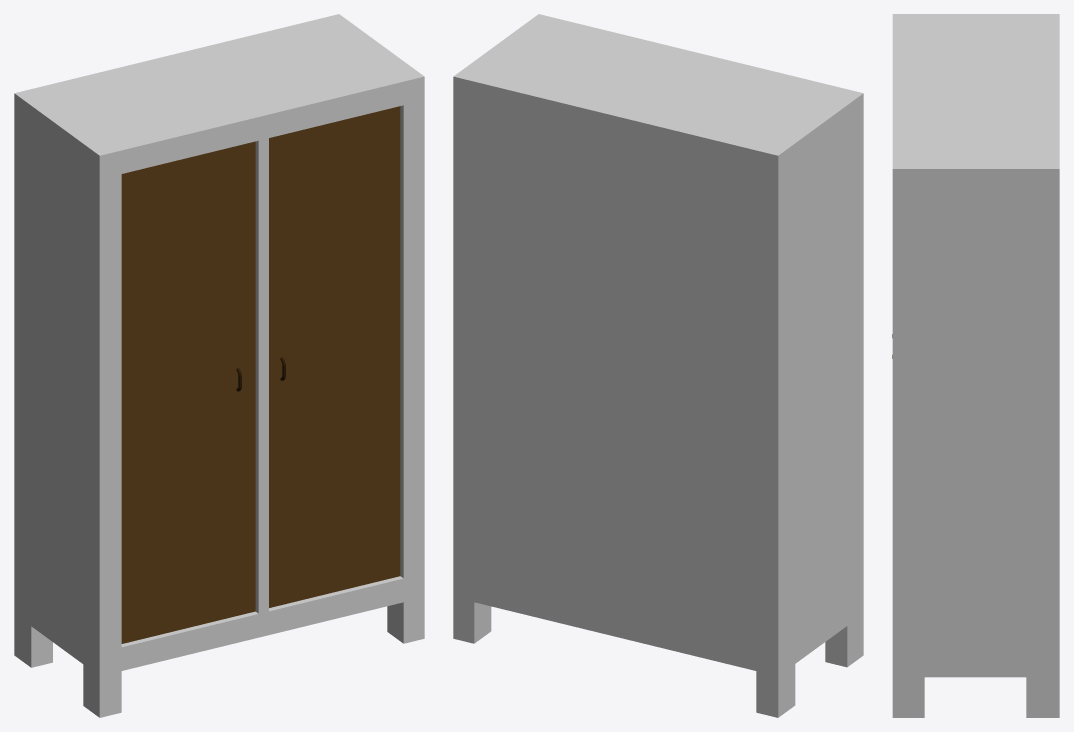
Rendered from Armario.fbx.
3 renders of one model, left to right at view 1: azimuth 30°, elevation 25°; view 2: azimuth 150°, elevation 25°; view 3: azimuth 270°, elevation 25°, orthographic. The views are drawn at different scales.
Visible parts, largest first — view 1: Armario; view 2: Armario; view 3: Armario.
Part boxes in pixels (box(x1,y1,x2,y2)): Armario: box(14, 14, 424, 717); Armario: box(453, 14, 863, 717); Armario: box(892, 14, 1059, 717).
Size of the model in its own units: 475 by 785 by 216.
